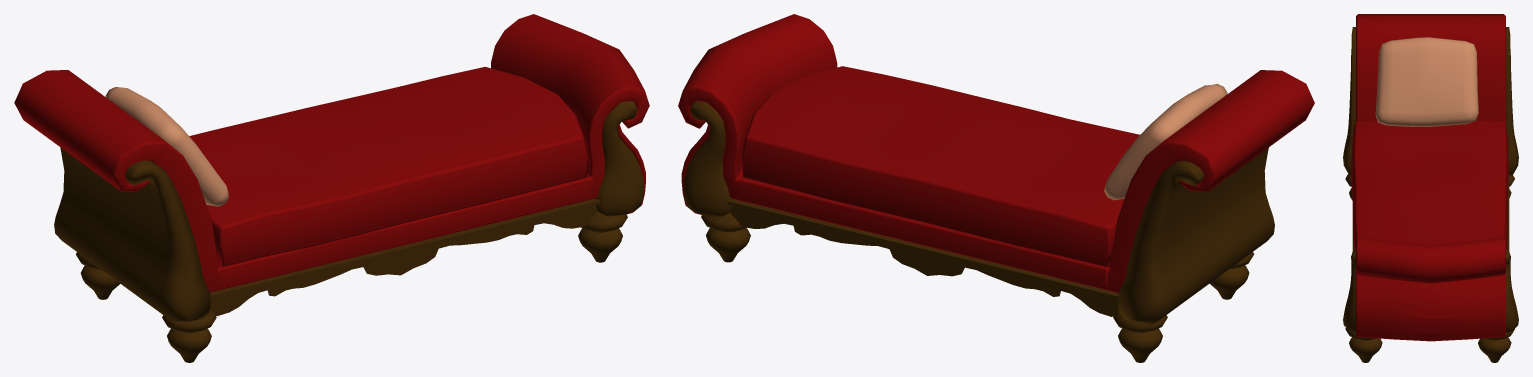
File: ACT3_Chair.fbx
The picture shows the model from 3 angles, left to right: view 1: azimuth 30°, elevation 25°; view 2: azimuth 150°, elevation 25°; view 3: azimuth 270°, elevation 25°; orthographic projection. The views are drawn at different scales.
Visible parts, largest first — view 1: mesh_Chaise_Longue; view 2: mesh_Chaise_Longue; view 3: mesh_Chaise_Longue.
Boxes of the visible parts, x1,y1,x2,y2 form: mesh_Chaise_Longue: (14,14,649,362); mesh_Chaise_Longue: (678,14,1314,362); mesh_Chaise_Longue: (1343,14,1518,362).
Bounding box in the file's own units: 5.81 × 2.32 × 2.11.
